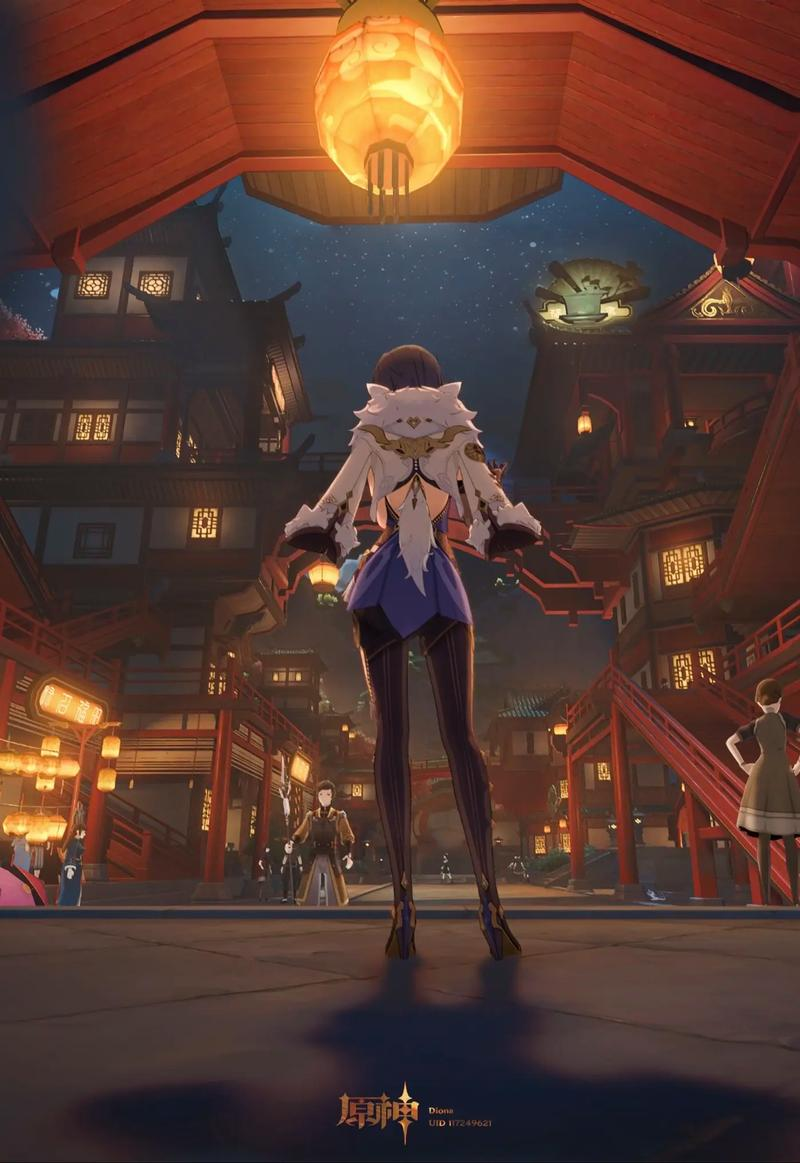夜兰: (287, 339, 578, 976)
